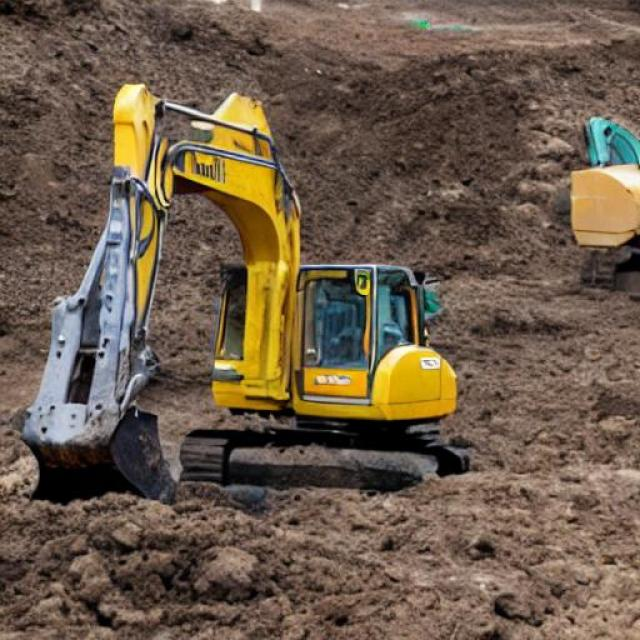excavator: (125, 278, 416, 479), (119, 431, 179, 540)
